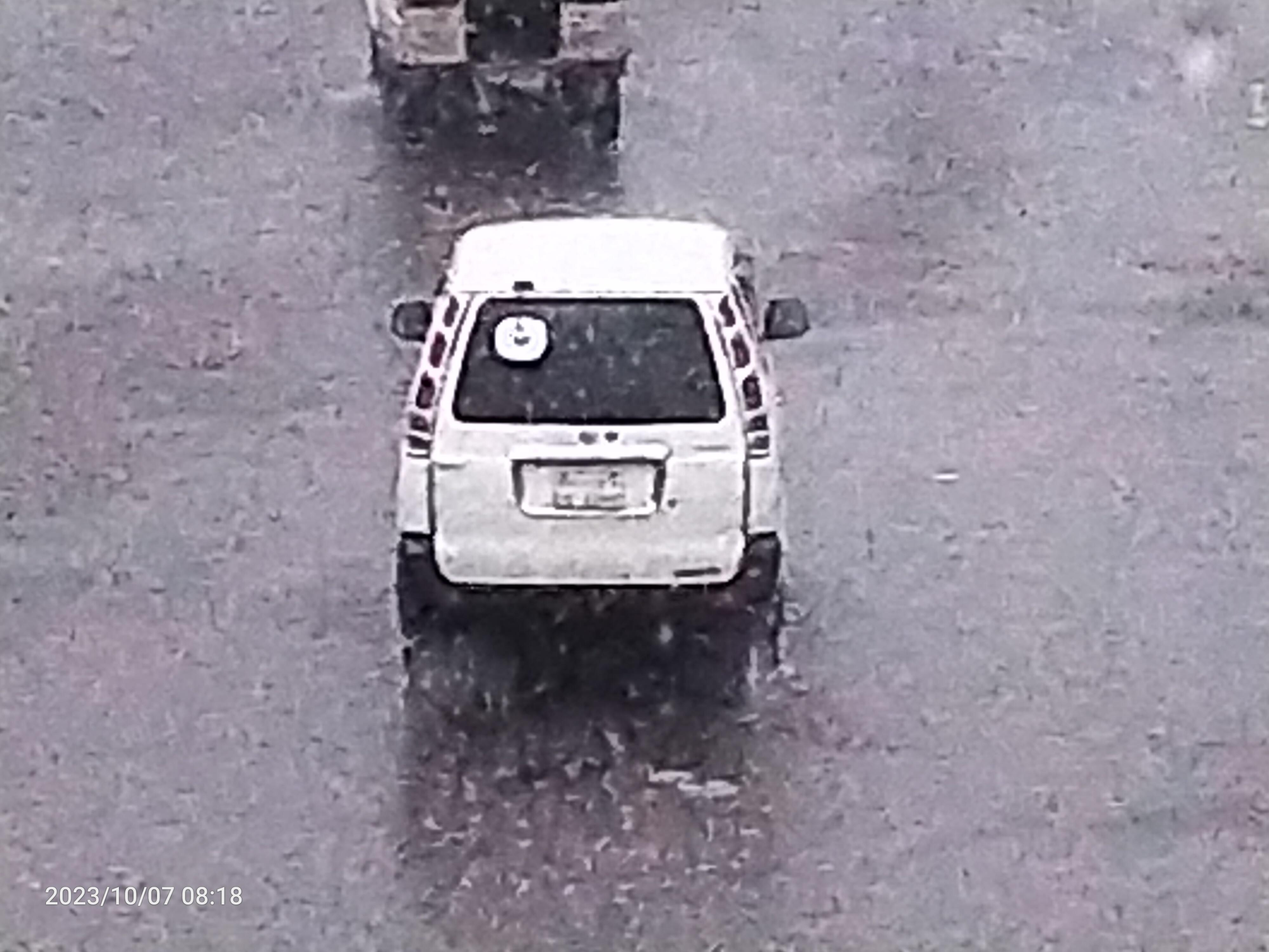Car: (316, 187, 841, 707), (340, 0, 672, 181)
